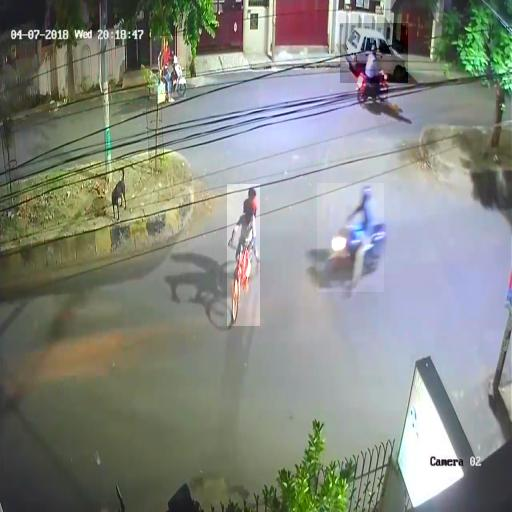小汽车: (340, 23, 408, 83)
自行车: (317, 183, 384, 292), (227, 184, 260, 326), (150, 36, 186, 99), (357, 46, 388, 102)
